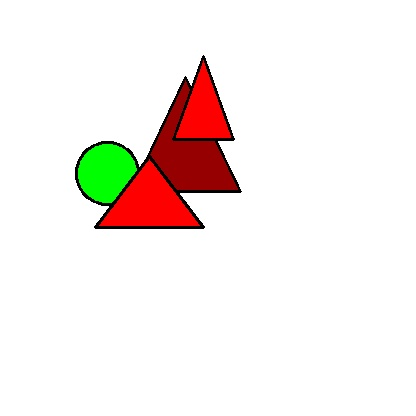circle: (52, 142, 163, 204)
triangle: (131, 77, 240, 191), (95, 156, 203, 227), (173, 56, 233, 139)
